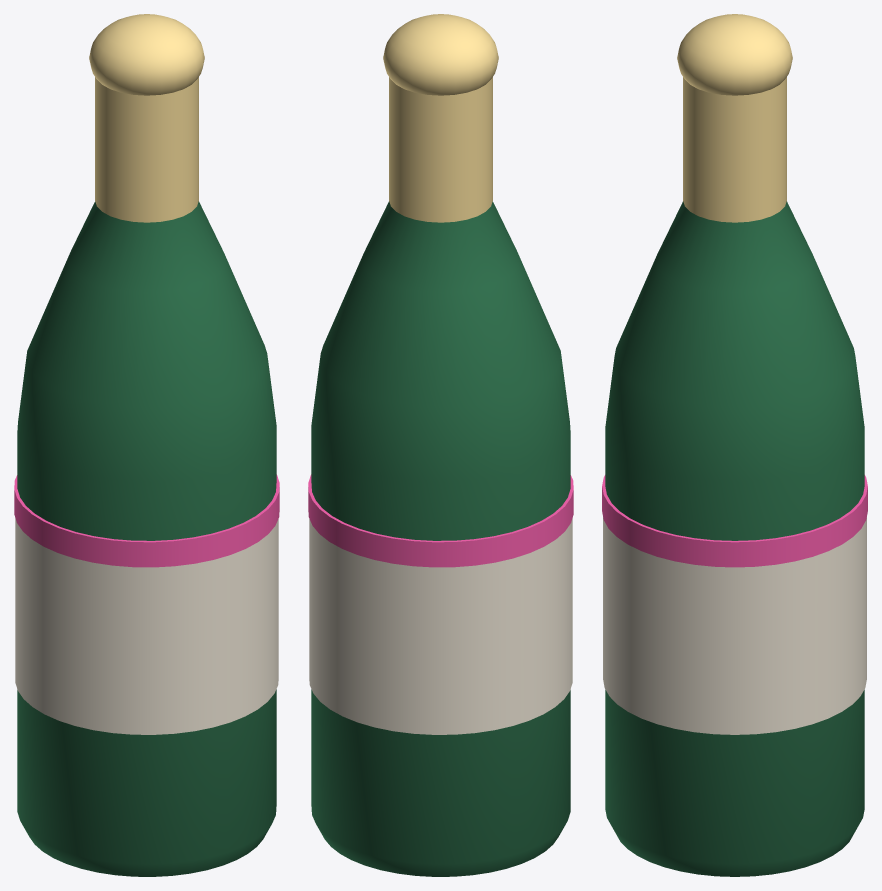
Rendered from Item_Champagne.fbx.
3 renders of one model, left to right at view 1: azimuth 30°, elevation 25°; view 2: azimuth 150°, elevation 25°; view 3: azimuth 270°, elevation 25°, orthographic.
Parts seen in each view (by area): view 1: Champagne_Glass, Champagne_Label, Champagne_Foil, Champagne_Cork, Champagne_Band; view 2: Champagne_Glass, Champagne_Label, Champagne_Foil, Champagne_Cork, Champagne_Band; view 3: Champagne_Glass, Champagne_Label, Champagne_Foil, Champagne_Cork, Champagne_Band.
Boxes of the visible parts, bbox=[...] form: Champagne_Glass: bbox=[17, 201, 276, 876]; Champagne_Label: bbox=[15, 518, 278, 734]; Champagne_Foil: bbox=[95, 77, 198, 222]; Champagne_Cork: bbox=[89, 14, 204, 95]; Champagne_Band: bbox=[14, 474, 279, 567]; Champagne_Glass: bbox=[311, 201, 570, 876]; Champagne_Label: bbox=[309, 518, 572, 734]; Champagne_Foil: bbox=[389, 77, 492, 222]; Champagne_Cork: bbox=[383, 14, 498, 95]; Champagne_Band: bbox=[308, 474, 573, 567]; Champagne_Glass: bbox=[605, 201, 864, 876]; Champagne_Label: bbox=[603, 517, 866, 734]; Champagne_Foil: bbox=[683, 77, 786, 222]; Champagne_Cork: bbox=[677, 14, 792, 95]; Champagne_Band: bbox=[602, 475, 867, 567].
Bounding box in the file's own units: 0.0574 × 0.1917 × 0.0574.
